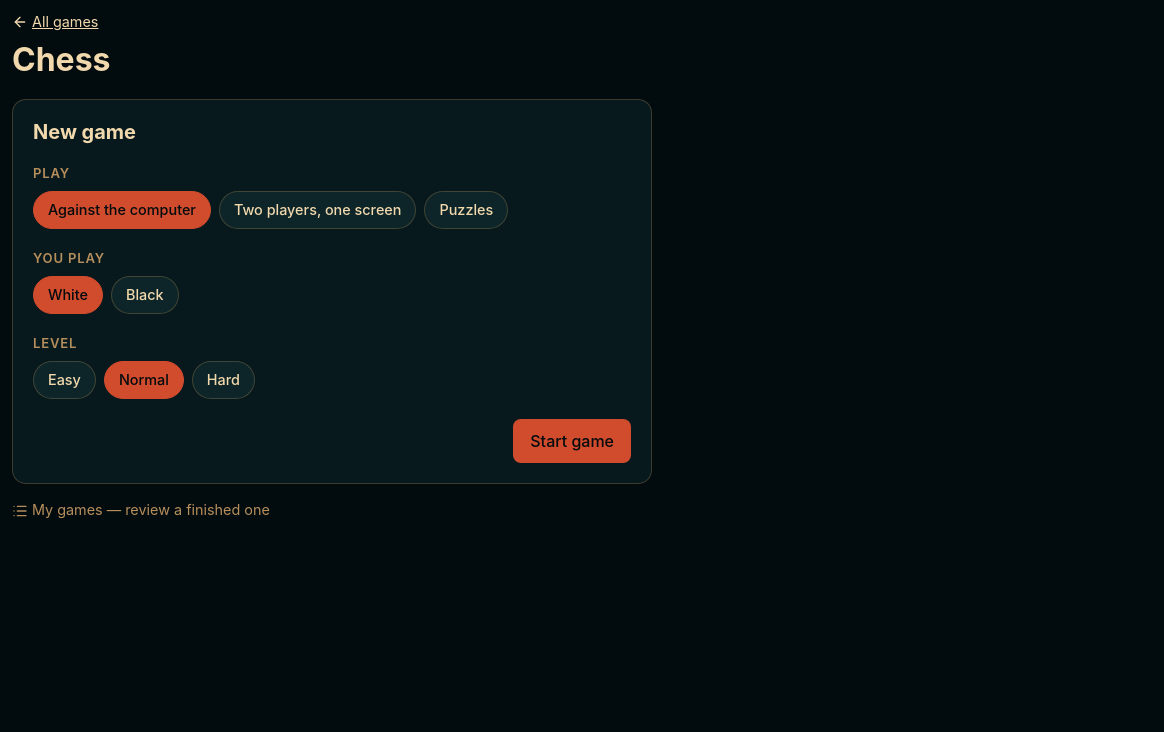
ChessPage › starts a two-player game, marks where a piece may go, and keeps the move
Click the button "Two players, one screen" at coordinates (318, 210), box [219, 191, 416, 229]
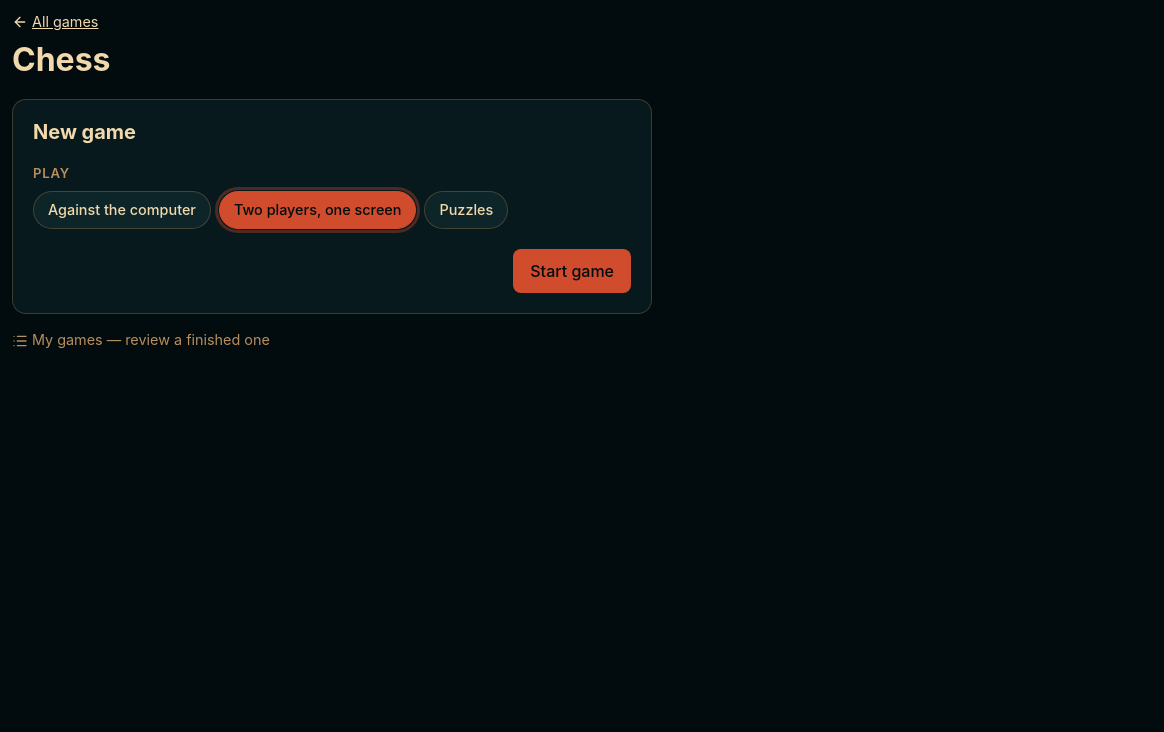
Click the button "Start game" at coordinates (572, 271), box [513, 249, 631, 293]
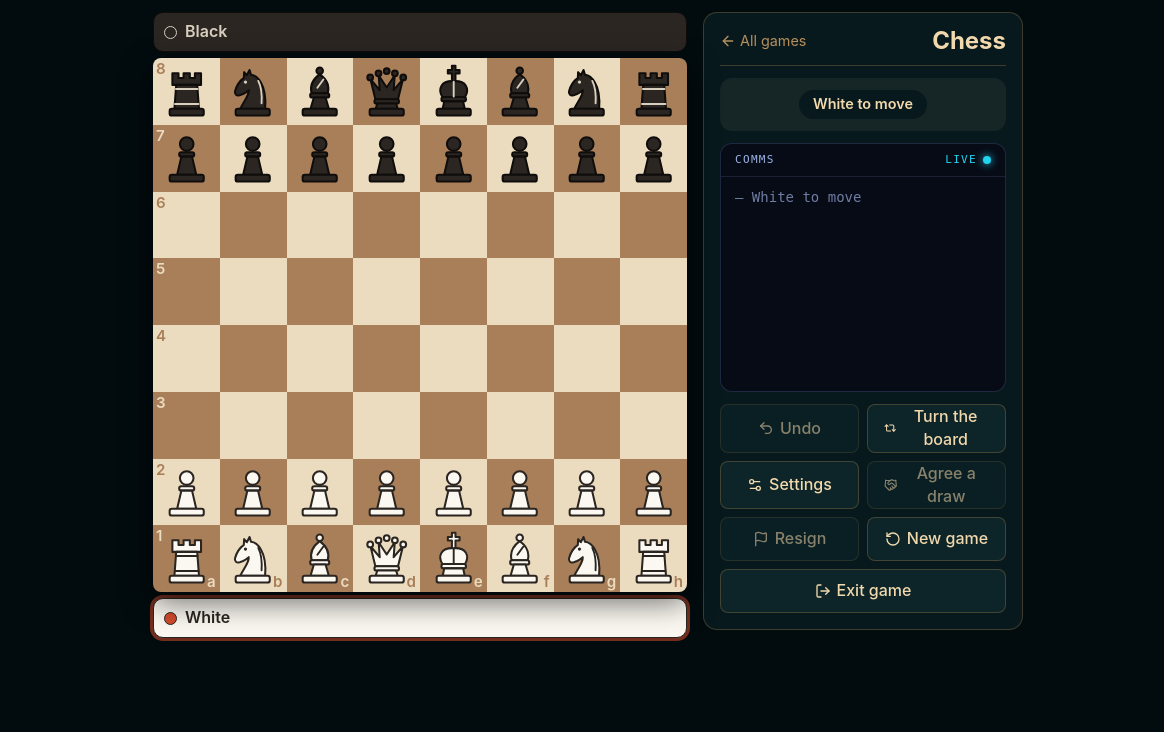
Expected: the message reads "White to move", [813, 95, 913, 112]
Click the button named "e2, White pawn" at coordinates (453, 492), box [420, 458, 487, 525]
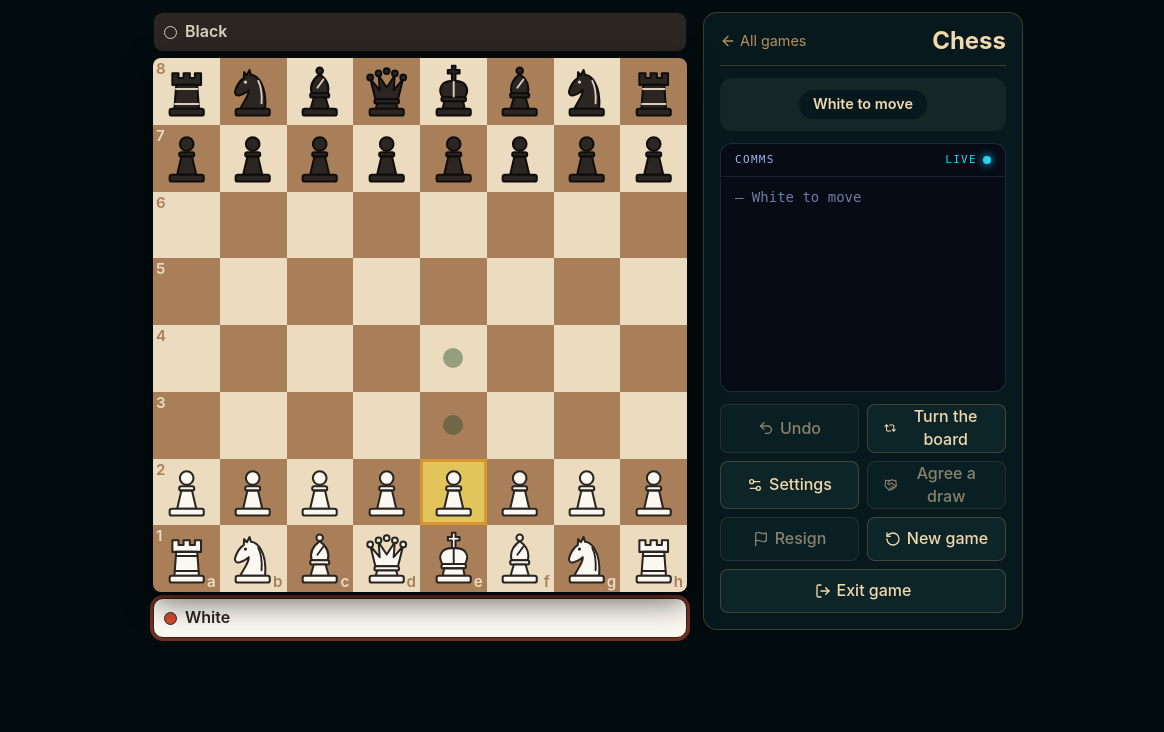
# Black's pieces cannot be picked up on White's move.
Click the button named "e7, Black pawn" at coordinates (453, 158), box [420, 125, 487, 192]
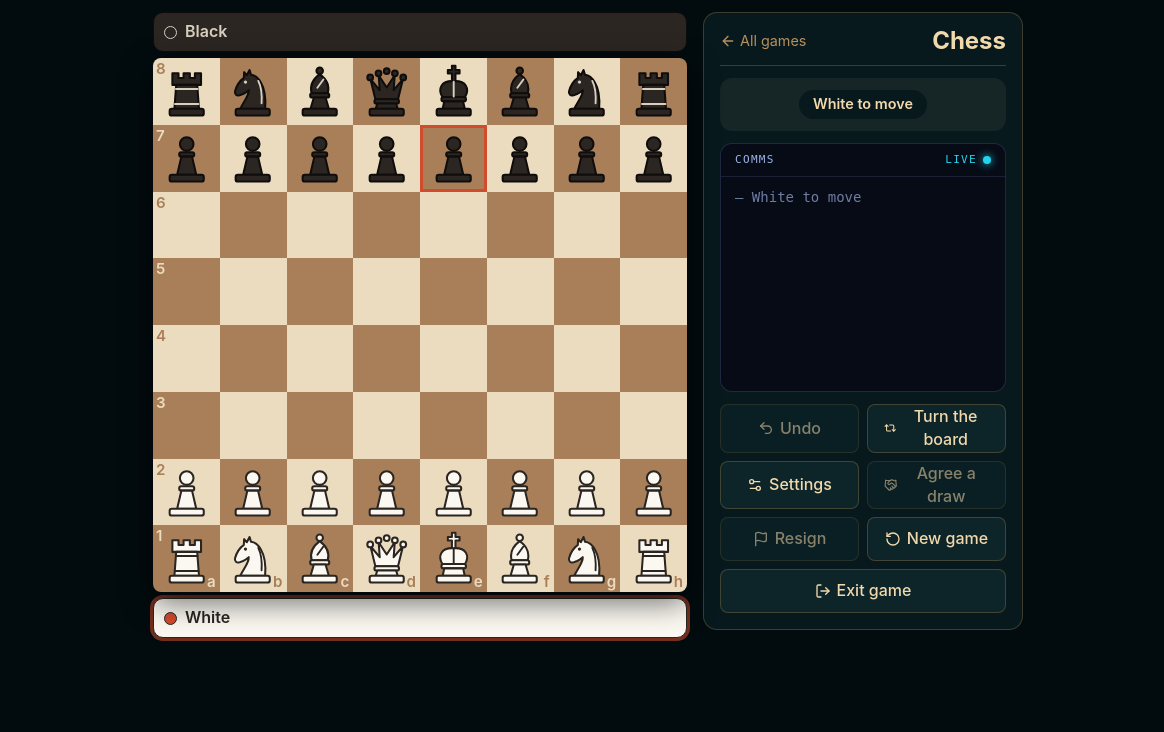
Click the button named "e2, White pawn" at coordinates (453, 492), box [420, 458, 487, 525]
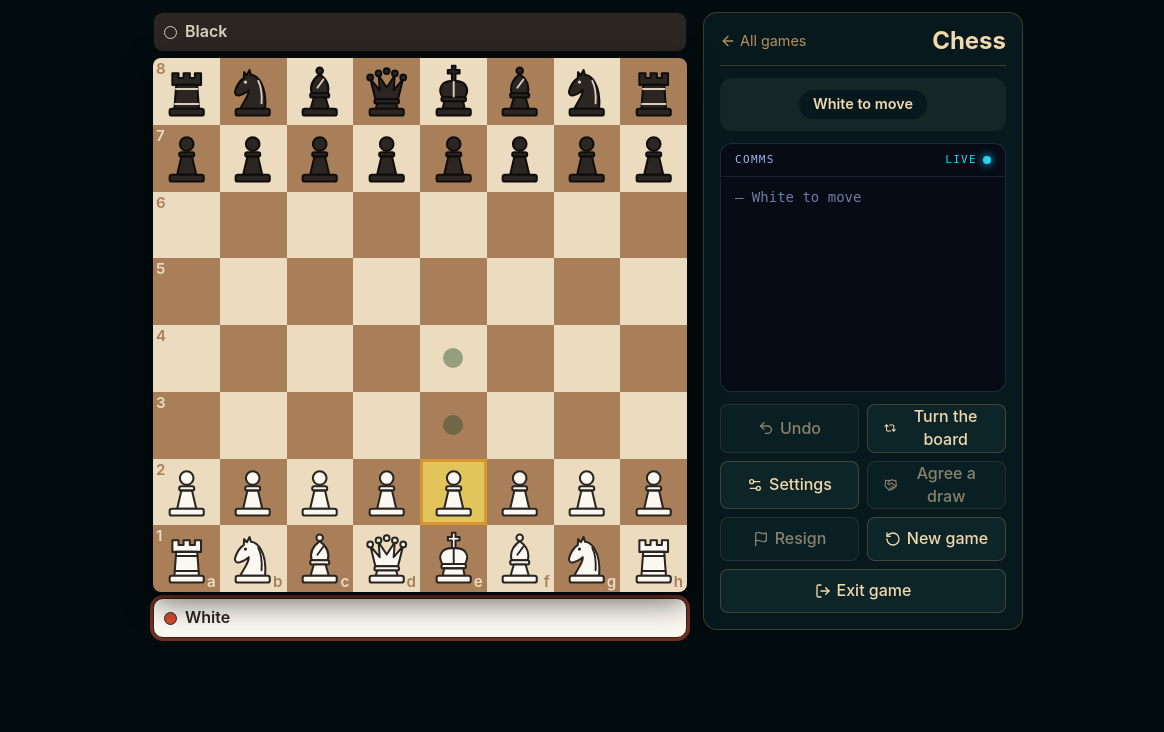
Click the button named "e4" at coordinates (453, 358), box [420, 325, 487, 392]
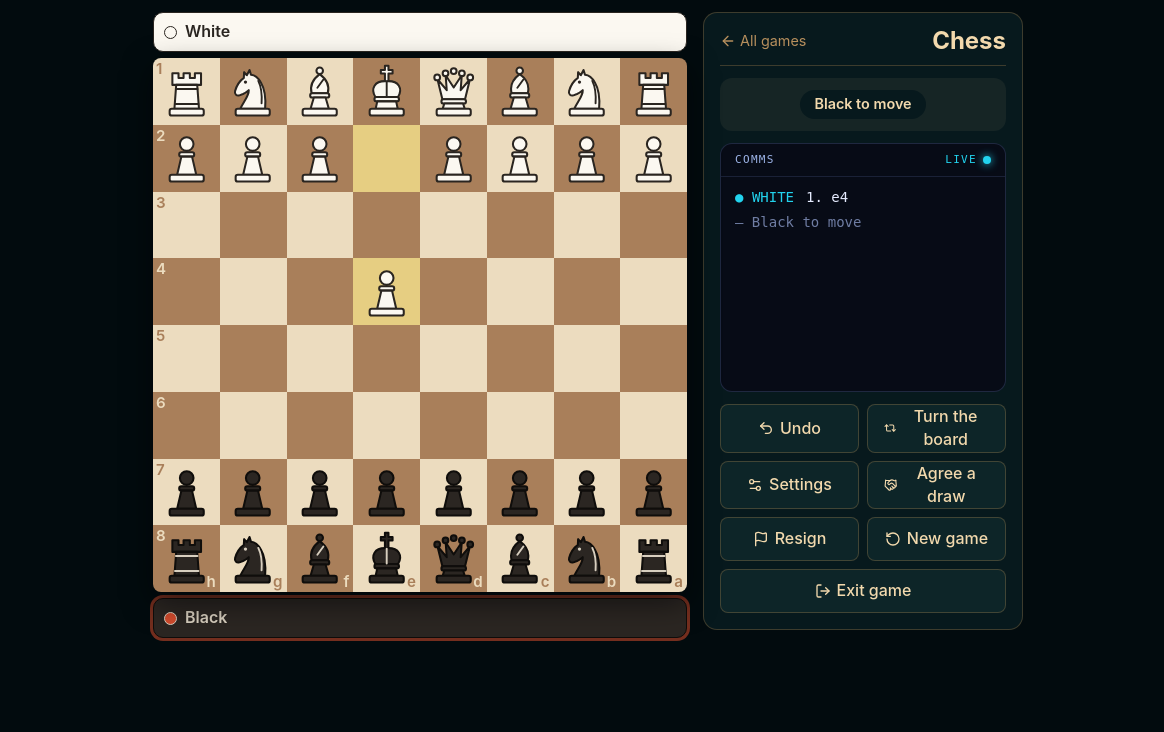
Expected: the message reads "Black to move", [814, 95, 912, 112]
Expected: the element showing "● White 1. e4 — Black to move" is shown, [735, 189, 861, 230]
